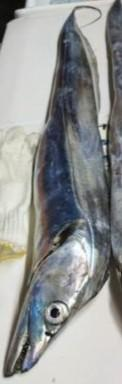fish: (5, 5, 110, 376)
